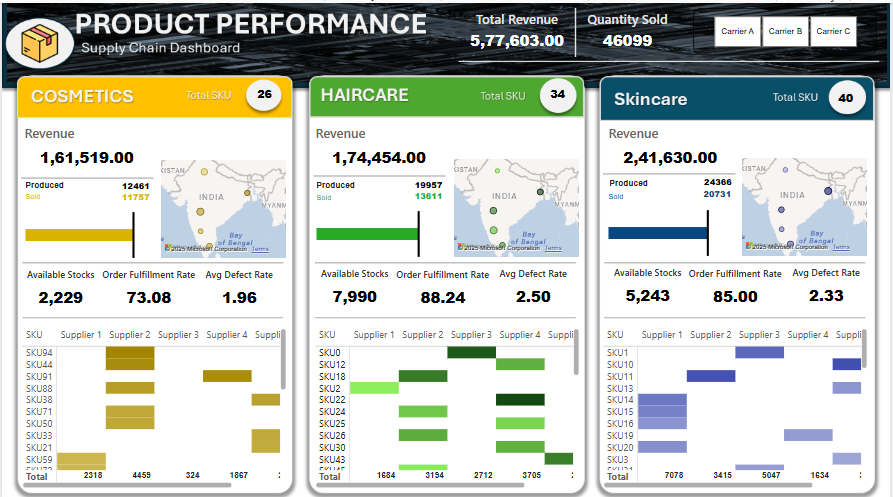

The page's visual inventory and layout, read from the dashboard file:
{"tool":"powerbi","page":{"name":"Page 1","canvas":[1280,720],"ordinal":0},"visuals":[{"type":"card","title":"Total Revenue","fields":{"Values":["_Measures.Total_revenue"]},"box":[666.7,10.1,149.8,66.2],"z":0},{"type":"shape","box":[793.4,7.2,64.8,70.6],"z":1000},{"type":"card","title":"Quantity Sold","fields":{"Values":["_Measures.Total_quantity_sold"]},"box":[836.6,10.1,128.2,66.2],"z":2000},{"type":"card","title":" Revenue","fields":{"Values":["_Measures.Cosmetics_revenue"]},"box":[27.7,174.7,189.2,74.7],"z":3000},{"type":"card","title":" Revenue","fields":{"Values":["_Measures.Haircare_revenue"]},"box":[447,174.7,192.8,74.7],"z":4000},{"type":"card","title":" Revenue","fields":{"Values":["_Measures.Skincare_revenue"]},"box":[868.7,174.7,188,74.7],"z":5000},{"type":"card","title":" Revenue","fields":{"Values":["_Measures.Cosmetics_produced"]},"box":[168.4,257,48.7,13.9],"z":6000},{"type":"card","title":" Revenue","fields":{"Values":["_Measures.Haircare_produced"]},"box":[589.2,254.4,50.6,18.4],"z":7000},{"type":"card","title":" Revenue","fields":{"Values":["_Measures.Skincare_produced"]},"box":[1009,250.5,43.1,18.6],"z":8000},{"type":"card","title":" Revenue","fields":{"Values":["_Measures.Cosmetics_sold"]},"box":[168,272.2,48.5,14.4],"z":9000},{"type":"card","title":" Revenue","fields":{"Values":["_Measures.Haircare_sold"]},"box":[589.4,271.2,50.6,18.8],"z":10000},{"type":"card","title":" Revenue","fields":{"Values":["_Measures.Skincare_quantity_sold"]},"box":[1008.5,267.6,44.1,19.1],"z":11000},{"type":"textbox","box":[28.2,248.2,73.6,30],"z":12000},{"type":"textbox","box":[28.2,263.5,56.5,30.6],"z":13000},{"type":"textbox","box":[447.3,248.2,74.5,30],"z":14000},{"type":"textbox","box":[447.6,264.7,55.9,31.8],"z":15000},{"type":"textbox","box":[869,263.8,55.2,31.9],"z":16000},{"type":"textbox","box":[869.1,245.5,74.5,30],"z":17000},{"type":"card","title":"Available Stocks","fields":{"Values":["_Measures.Cosmetics_available_stocks"]},"box":[27.5,381.2,114.5,66.7],"z":18000},{"type":"card","title":"Order Fulfillment Rate","fields":{"Values":["_Measures.Order_fulfillment_rate"]},"box":[142,381.2,137.7,66.7],"z":19000},{"type":"card","title":"Avg Defect Rate","fields":{"Values":["_Measures.Cosmetics_avg_defect_rate"]},"box":[285.5,381.2,113,66.7],"z":20000},{"type":"barChart","fields":{"Y":["_Measures.Cosmetics_sold","_Measures.Cosmetics_produced"]},"box":[28.4,288.9,340.7,82.7],"z":21000},{"type":"barChart","fields":{"Y":["_Measures.Haircare_sold","_Measures.Haircare_produced"]},"box":[447.8,288.4,388.4,82.6],"z":22000},{"type":"barChart","fields":{"Y":["_Measures.Skincare_quantity_sold","_Measures.Skincare_produced"]},"box":[868.1,287,355.1,82.6],"z":23000},{"type":"card","title":"Available Stocks","fields":{"Values":["_Measures.Haircare_available_stocks"]},"box":[450.6,379.6,114.5,66.7],"z":24000},{"type":"card","title":"Order Fulfillment Rate","fields":{"Values":["_Measures.haircare_order_fulfillment_rate"]},"box":[565.2,381.2,137.7,66.7],"z":25000},{"type":"card","title":"Avg Defect Rate","fields":{"Values":["_Measures.Haircare_defect_rate_avg"]},"box":[708.6,379.6,113,66.7],"z":26000},{"type":"card","title":"Available Stocks","fields":{"Values":["_Measures.Skincare_available_stocks"]},"box":[872.2,379.4,114.5,66.7],"z":27000},{"type":"card","title":"Order Fulfillment Rate","fields":{"Values":["_Measures.Skincare_order_fulfillment_rate"]},"box":[987,379.7,139.1,66.7],"z":28000},{"type":"card","title":"Avg Defect Rate","fields":{"Values":["_Measures.Skincare_avg_defect_rate"]},"box":[1130.1,379.4,113,66.7],"z":29000},{"type":"card","title":" Revenue","fields":{"Values":["_Measures.Cosmetics_Sku"]},"box":[356.5,113,42,39.1],"z":30000},{"type":"card","title":" Revenue","fields":{"Values":["_Measures.Haircare_sku"]},"box":[779.7,113,42,39.1],"z":31000},{"type":"card","title":" Revenue","fields":{"Values":["_Measures.Skincare_sku"]},"box":[1187,113,56.5,50.7],"z":32000},{"type":"pivotTable","fields":{"Rows":["supply_chain_table.SKU"],"Columns":["supply_chain_table.Supplier name"],"Values":["_Measures.Cosmetics_sold"]},"box":[24.7,463,390.1,239.5],"z":33000},{"type":"pivotTable","fields":{"Rows":["supply_chain_table.SKU"],"Columns":["supply_chain_table.Supplier name"],"Values":["_Measures.Haircare_sold"]},"box":[446.9,463,390.1,239.5],"z":34000},{"type":"pivotTable","fields":{"Rows":["supply_chain_table.SKU"],"Columns":["supply_chain_table.Supplier name"],"Values":["_Measures.Skincare_quantity_sold"]},"box":[861.7,463,390.1,239.5],"z":35000},{"type":"map","fields":{"Category":["supply_chain_table.state"],"Size":["_Measures.Cosmetics_revenue"]},"box":[224.8,221.9,189.6,149.9],"z":36000},{"type":"map","fields":{"Category":["supply_chain_table.state"],"Size":["_Measures.Haircare_revenue"]},"box":[646.6,220.4,189.6,149.9],"z":37000},{"type":"map","fields":{"Category":["supply_chain_table.state"],"Size":["_Measures.Skincare_revenue"]},"box":[1061,219,189.6,149.9],"z":38000},{"type":"slicer","fields":{"Values":["supply_chain_table.Shipping carriers"]},"box":[994.9,7.3,264.5,67.6],"z":39000}]}

Visuals, with their boxes in screenshot pixels (x1, y1, x2, y2), scaled from the page's 1280x720 canvas onto the 893x497 screenshot:
"Total Revenue" card: 465,7,570,53
shape: 554,5,599,54
"Quantity Sold" card: 584,7,673,53
" Revenue" card: 19,121,151,172
" Revenue" card: 312,121,446,172
" Revenue" card: 606,121,737,172
" Revenue" card: 117,177,151,187
" Revenue" card: 411,176,446,188
" Revenue" card: 704,173,734,186
" Revenue" card: 117,188,151,198
" Revenue" card: 411,187,446,200
" Revenue" card: 704,185,734,198
textbox: 20,171,71,192
textbox: 20,182,59,203
textbox: 312,171,364,192
textbox: 312,183,351,205
textbox: 606,182,645,204
textbox: 606,169,658,190
"Available Stocks" card: 19,263,99,309
"Order Fulfillment Rate" card: 99,263,195,309
"Avg Defect Rate" card: 199,263,278,309
barChart - _Measures.Cosmetics_sold x _Measures.Cosmetics_produced: 20,199,258,257
barChart - _Measures.Haircare_sold x _Measures.Haircare_produced: 312,199,583,256
barChart - _Measures.Skincare_quantity_sold x _Measures.Skincare_produced: 606,198,853,255
"Available Stocks" card: 314,262,394,308
"Order Fulfillment Rate" card: 394,263,490,309
"Avg Defect Rate" card: 494,262,573,308
"Available Stocks" card: 608,262,688,308
"Order Fulfillment Rate" card: 689,262,786,308
"Avg Defect Rate" card: 788,262,867,308
" Revenue" card: 249,78,278,105
" Revenue" card: 544,78,573,105
" Revenue" card: 828,78,868,113
pivotTable - supply_chain_table.SKU x supply_chain_table.Supplier name: 17,320,289,485
pivotTable - supply_chain_table.SKU x supply_chain_table.Supplier name: 312,320,584,485
pivotTable - supply_chain_table.SKU x supply_chain_table.Supplier name: 601,320,873,485
map - supply_chain_table.state x _Measures.Cosmetics_revenue: 157,153,289,257
map - supply_chain_table.state x _Measures.Haircare_revenue: 451,152,583,256
map - supply_chain_table.state x _Measures.Skincare_revenue: 740,151,872,255
slicer - supply_chain_table.Shipping carriers: 694,5,879,52
